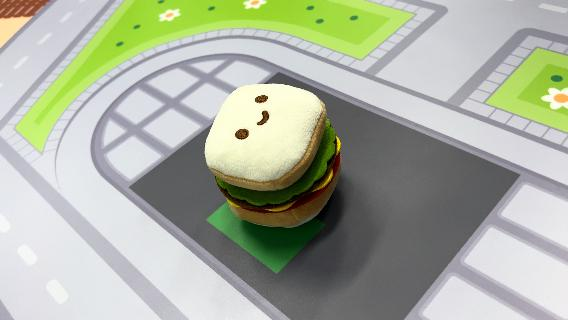sandwich: (203, 81, 345, 229)
